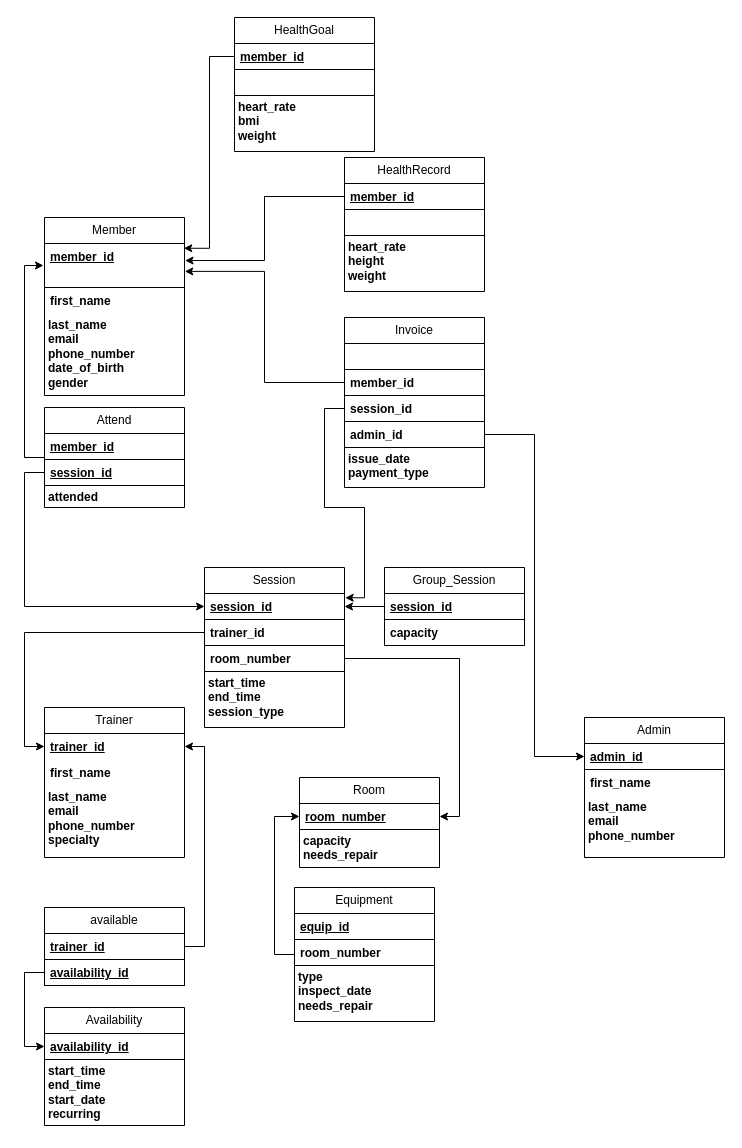
Some shapes in this 742 by 1148 pixel diagram are drawn without their labels. The shapes that lost their labels are listed below. From the top down, each one's centre as x and y in pixels, then its label:
point 304,82: date
point 414,222: when
point 414,356: invoice_id
